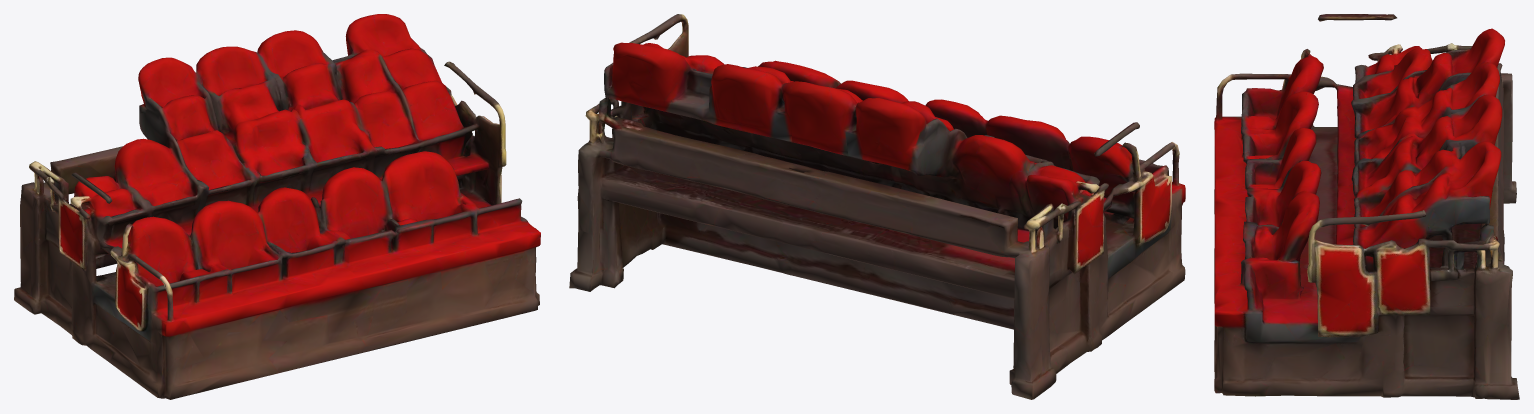
The model's file is culinary-tiered-seating.glb.
The picture shows the model from 3 angles, left to right: view 1: azimuth 30°, elevation 25°; view 2: azimuth 150°, elevation 25°; view 3: azimuth 270°, elevation 25°; orthographic projection. The views are drawn at different scales.
Size of the model in its own units: 2 by 1.04 by 1.25.
Materials: 1 (1 with a texture image).
